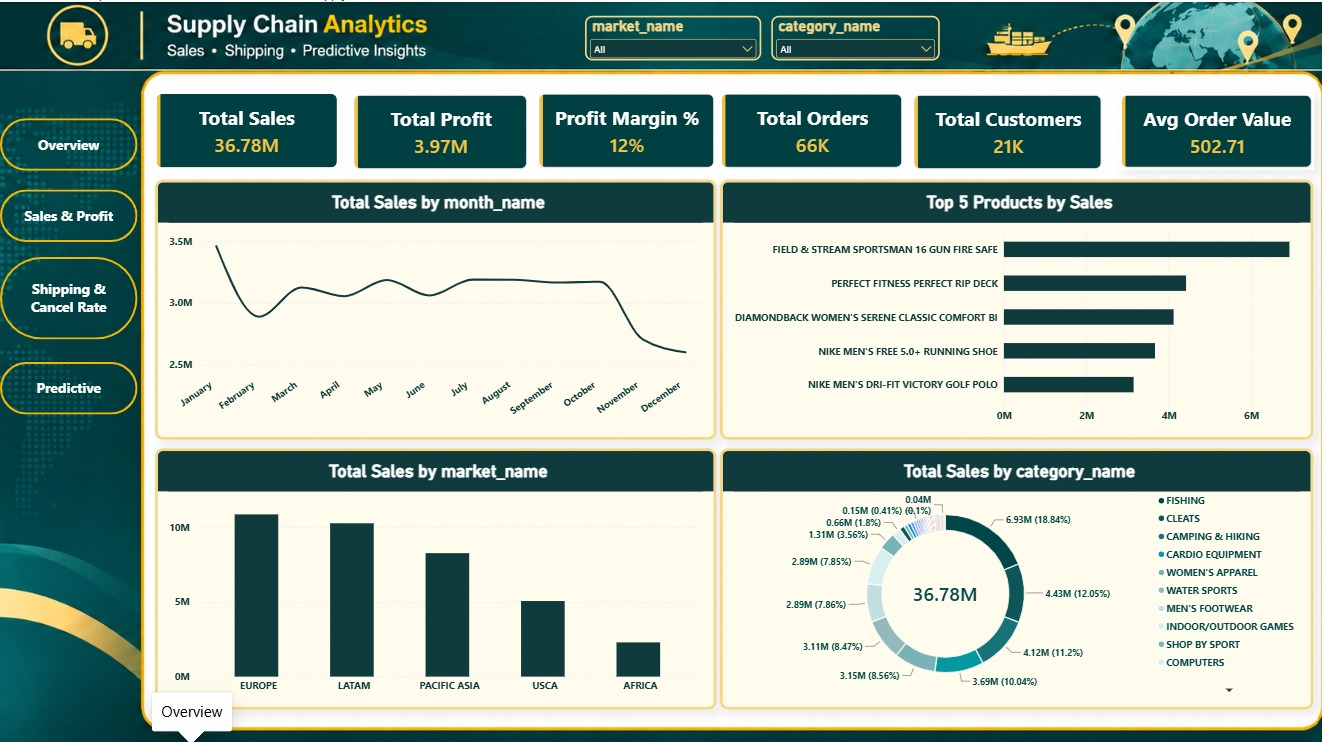

The dashboard page shown, as its layout file describes it:
{"tool":"powerbi","page":{"name":"Overview","canvas":[1920,1080],"ordinal":0},"visuals":[{"type":"cardVisual","fields":{"Data":["Measures (2).Total Sales"]},"box":[223.3,168.9,266,112.2],"z":0},{"type":"cardVisual","fields":{"Data":["Measures (2).Total Profit"]},"box":[503,168.9,255.2,112.2],"z":1000},{"type":"cardVisual","fields":{"Data":["Measures (2).Profit Margin %"]},"box":[775.3,168.9,258.8,112.2],"z":2000},{"type":"cardVisual","fields":{"Data":["Measures (2).Total Orders"]},"box":[1056.8,168.9,266,112.2],"z":3000},{"type":"cardVisual","fields":{"Data":["Measures (2).Total Customers"]},"box":[1329.1,172.5,288.7,108.9],"z":4000},{"type":"cardVisual","fields":{"Data":["Measures (2).Avg Order Value"]},"box":[1623.3,172.5,279.6,108.9],"z":5000},{"type":"lineChart","fields":{"Category":["dim_date.month_name"],"Y":["Measures (2).Total Sales"]},"box":[223.3,285.1,812.5,376.4],"z":6000},{"type":"columnChart","fields":{"Category":["dim_market.market_name"],"Y":["Measures (2).Total Sales"]},"box":[223.3,660.9,812.5,378.2],"z":7000},{"type":"slicer","fields":{"Values":["vw_dim_product_flat.category_name"]},"box":[1116.6,19.9,244.3,65.1],"z":8000},{"type":"slicer","fields":{"Values":["dim_market.market_name"]},"box":[846.9,19.9,255.2,65.1],"z":9000},{"type":"clusteredBarChart","title":"Top 5 Products by Sales","fields":{"Category":["vw_dim_product_flat.product_name"],"Y":["Measures (2).Total Sales"]},"box":[1045.9,285.1,859.6,376.4],"z":10000},{"type":"donutChart","fields":{"Category":["vw_dim_product_flat.category_name"],"Y":["Measures (2).Total Sales"]},"box":[1044.1,660.9,859.6,378.2],"z":11000},{"type":"actionButton","box":[0,271.4,199.1,76],"z":12000},{"type":"actionButton","box":[0,369.2,199.1,119.4],"z":13000},{"type":"actionButton","box":[0,168.3,199.1,76],"z":14000},{"type":"actionButton","box":[0,521.2,199.1,76],"z":15000},{"type":"htmlContent443BE3AD55E043BF878BED274D3A6855","fields":{"content":["Measures (2).Tag"]},"box":[223.3,112.6,1679.6,56.3],"z":16000}]}

Visuals, with their boxes on the page's 1920x1080 design canvas (x1, y1, x2, y2). These are canvas units, not pixel positions in the 1322x742 screenshot, which may show the page scaled, cropped or inside an application window:
cardVisual - Measures (2).Total Sales: x1=223, y1=169, x2=489, y2=281
cardVisual - Measures (2).Total Profit: x1=503, y1=169, x2=758, y2=281
cardVisual - Measures (2).Profit Margin %: x1=775, y1=169, x2=1034, y2=281
cardVisual - Measures (2).Total Orders: x1=1057, y1=169, x2=1323, y2=281
cardVisual - Measures (2).Total Customers: x1=1329, y1=172, x2=1618, y2=281
cardVisual - Measures (2).Avg Order Value: x1=1623, y1=172, x2=1903, y2=281
lineChart - dim_date.month_name x Measures (2).Total Sales: x1=223, y1=285, x2=1036, y2=662
columnChart - dim_market.market_name x Measures (2).Total Sales: x1=223, y1=661, x2=1036, y2=1039
slicer - vw_dim_product_flat.category_name: x1=1117, y1=20, x2=1361, y2=85
slicer - dim_market.market_name: x1=847, y1=20, x2=1102, y2=85
"Top 5 Products by Sales" clusteredBarChart: x1=1046, y1=285, x2=1906, y2=662
donutChart - vw_dim_product_flat.category_name x Measures (2).Total Sales: x1=1044, y1=661, x2=1904, y2=1039
actionButton: x1=0, y1=271, x2=199, y2=347
actionButton: x1=0, y1=369, x2=199, y2=489
actionButton: x1=0, y1=168, x2=199, y2=244
actionButton: x1=0, y1=521, x2=199, y2=597
htmlContent443BE3AD55E043BF878BED274D3A6855 - Measures (2).Tag: x1=223, y1=113, x2=1903, y2=169
